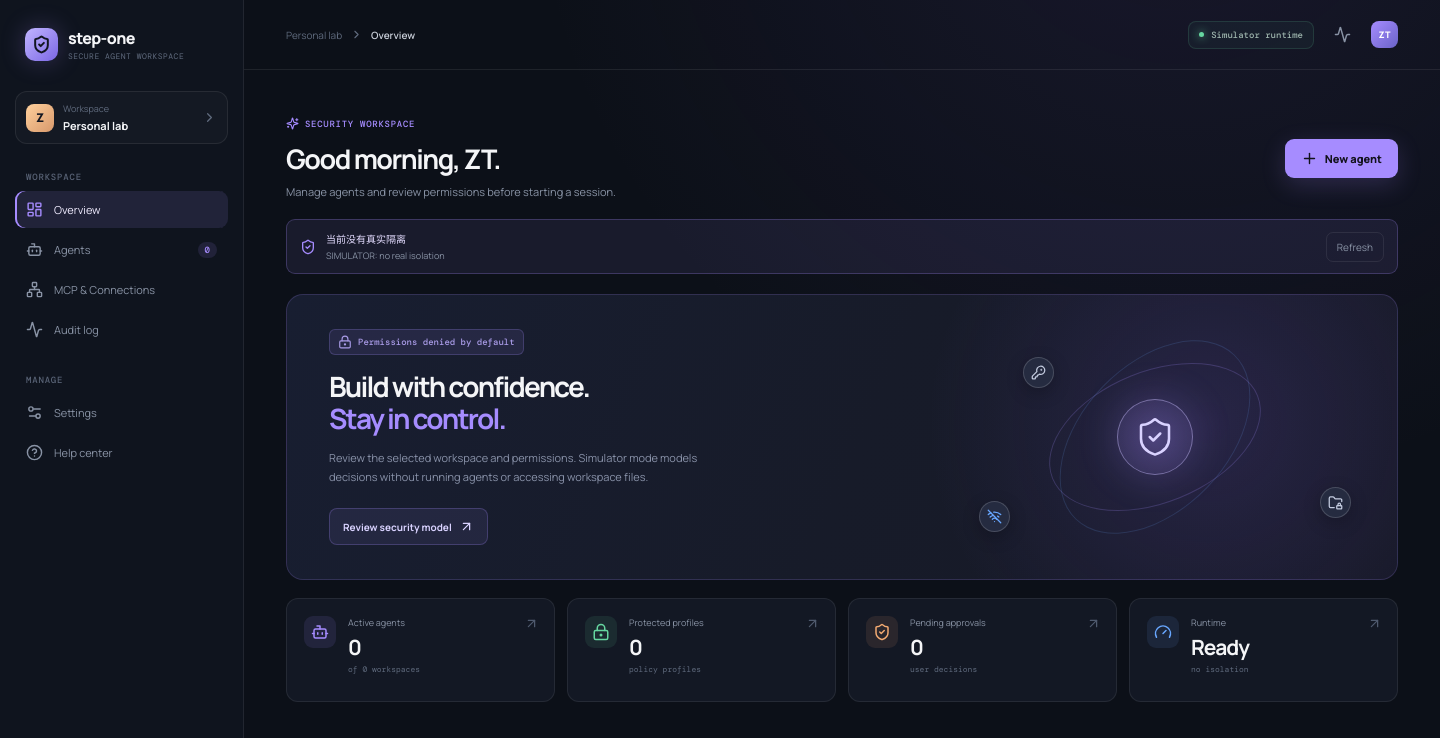
Test: console runtime UI › shows the empty state and explicit simulator boundary without fictitious agents
Expected: the text "当前没有真实隔离" is shown, x1=326 y1=232 x2=406 y2=246
Expected: the text "SIMULATOR: no real isolation" is shown, x1=326 y1=249 x2=445 y2=262
Click the button "Audit log": [122, 330] box x1=15 y1=311 x2=228 y2=348
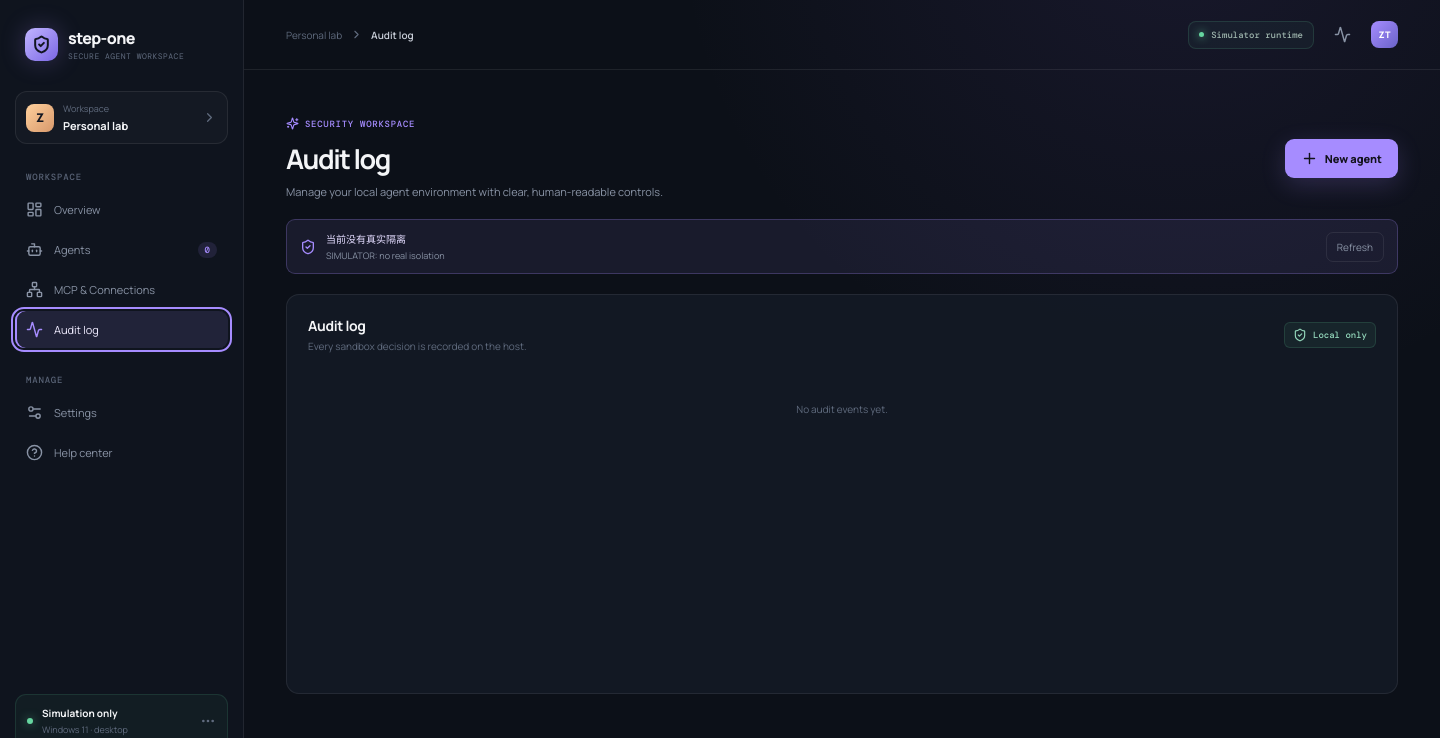
Now the text "No audit events yet." is shown, box x1=796 y1=402 x2=888 y2=416
